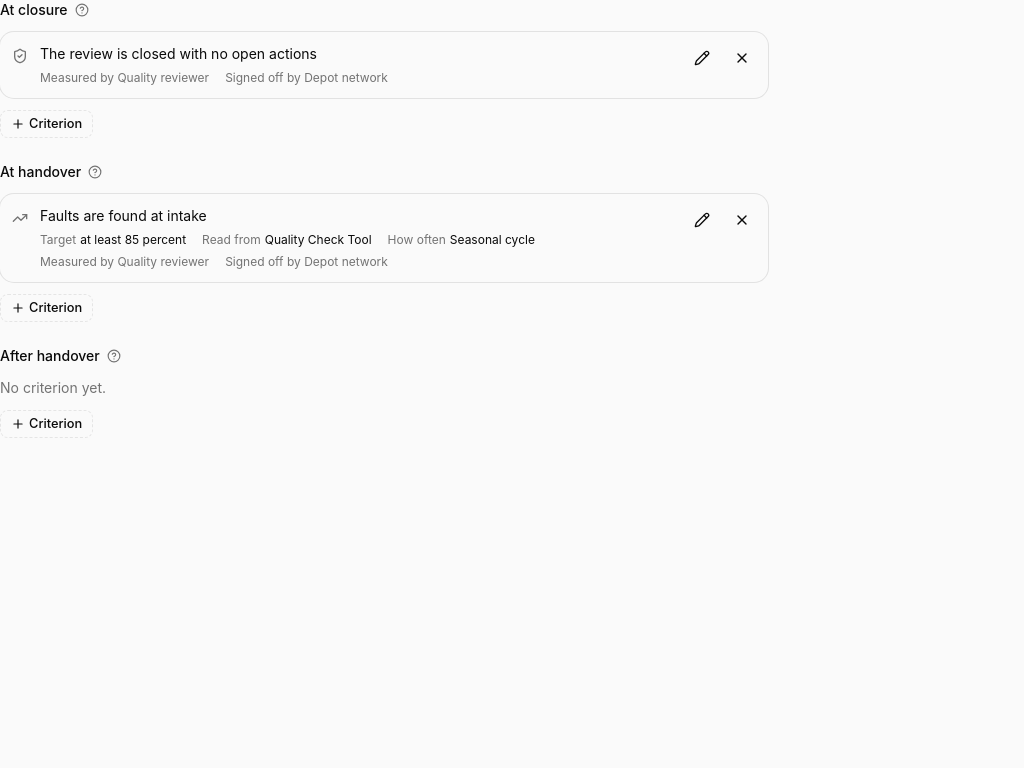
Test: the add dialog asks the five questions › asks where and how often only for a measured criterion
The width and height of the screenshot is (1024, 768).
Expected: the text "Faults are found at intake" is shown, [40,207,207,224]
Click the button with aria-label "Add a criterion": [47, 124] box [0,110,93,138]
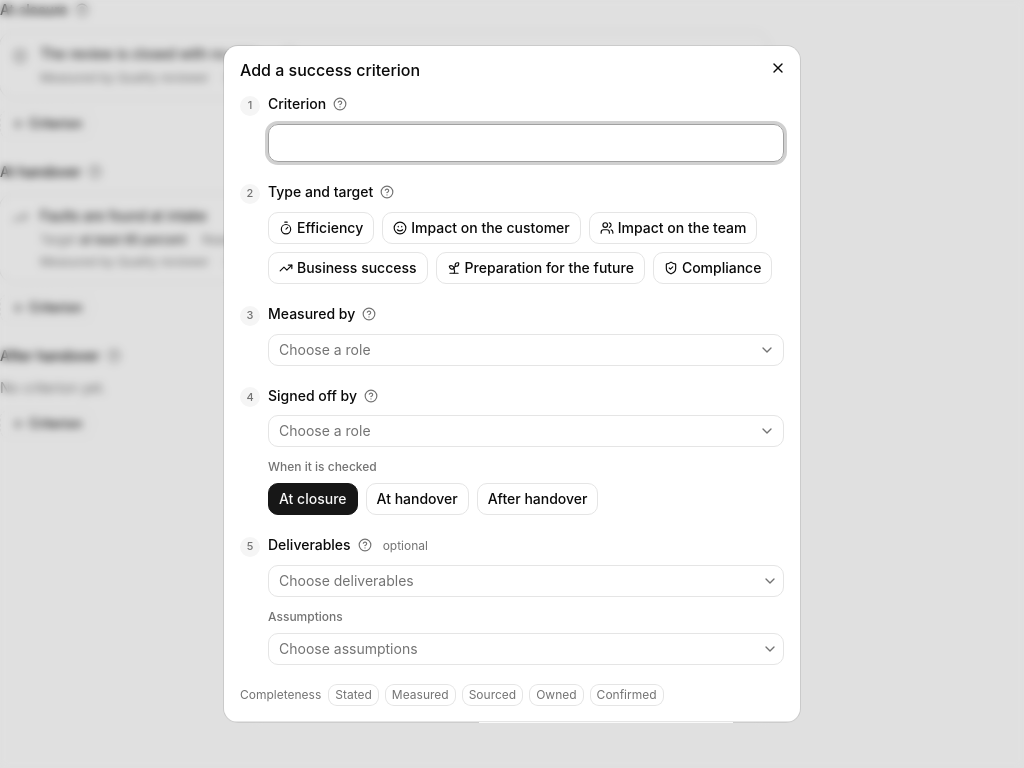
Now the heading "Add a success criterion" is shown, box [240,60,420,80]
Click the radio button labelled "Business success": [348, 268] box [268,252,428,284]
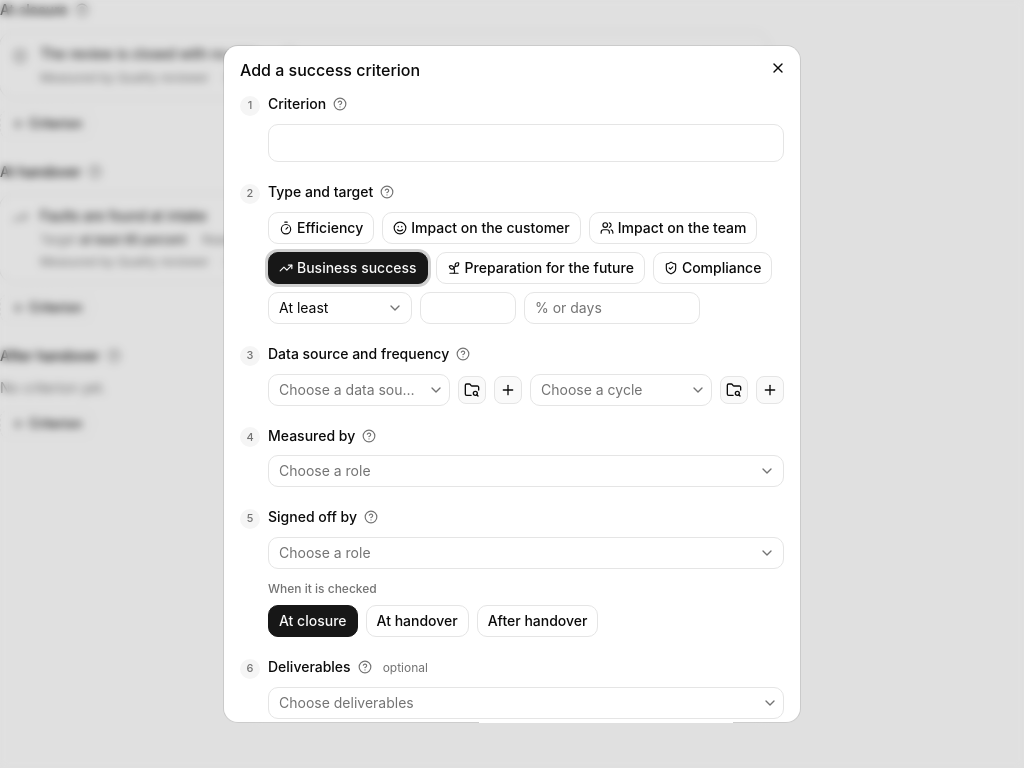
Now the text "Data source and frequency" is shown, box [268,344,449,364]
Now the dropdown named "Read from" is shown, box [268,374,450,406]
Now the dropdown named "Read each" is shown, box [530,374,712,406]
